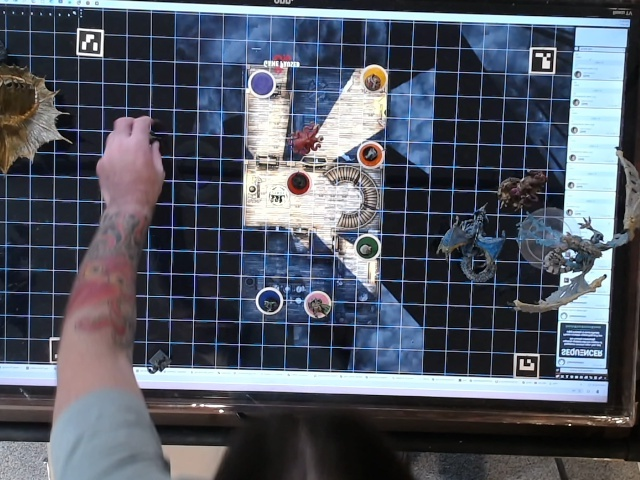blue: (255, 283, 287, 316)
green: (355, 233, 385, 258)
orange: (358, 139, 386, 165)
pink: (303, 285, 336, 317)
red: (285, 166, 314, 196)
violet: (247, 68, 278, 102)
yellow: (357, 62, 391, 92)
